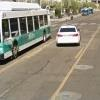buses: (0, 3, 52, 63)
